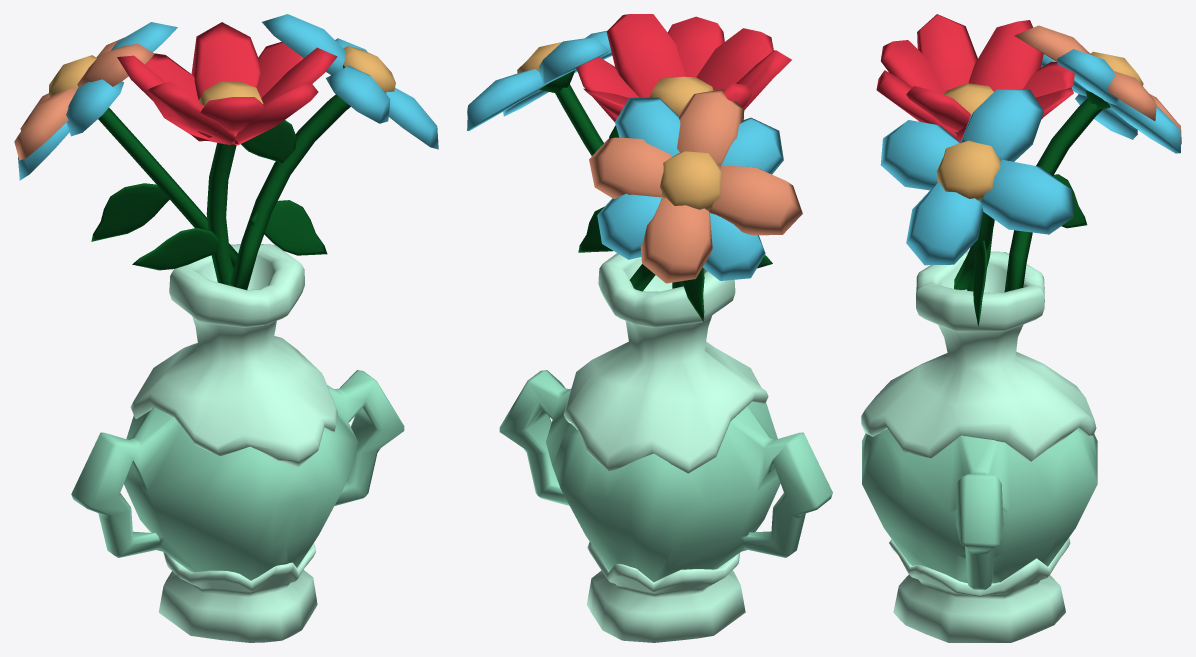
Rendered from props_vase_flowers.fbx.
3 renders of one model, left to right at view 1: azimuth 30°, elevation 25°; view 2: azimuth 150°, elevation 25°; view 3: azimuth 270°, elevation 25°, orthographic.
Visible parts, largest first — view 1: vase2.002; view 2: vase2.002; view 3: vase2.002.
Part boxes in pixels (x1=…): vase2.002: x1=14, y1=14, x2=438, y2=642; vase2.002: x1=467, y1=14, x2=832, y2=642; vase2.002: x1=861, y1=14, x2=1181, y2=642.
Size of the model in its own units: 0.7628 by 1.18 by 0.6108.
